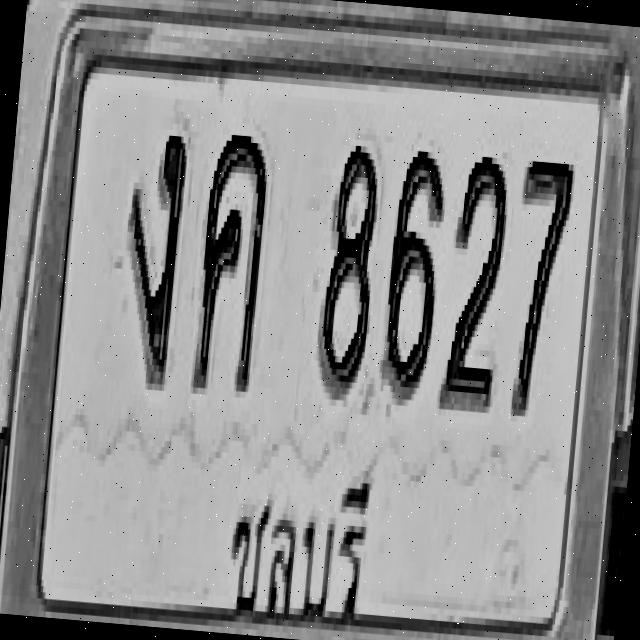13KhorKhwai: (190, 126, 273, 392)
16NgorNgu: (114, 126, 188, 385)
2: (436, 148, 512, 413)
6: (377, 143, 447, 401)
7: (502, 154, 575, 418)
8: (312, 137, 383, 401)
Chonburi: (218, 443, 388, 640)
